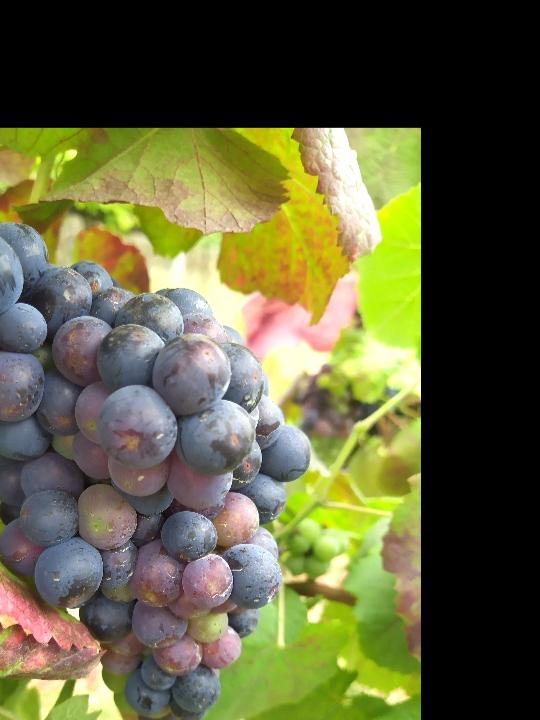grape: (0, 223, 318, 720)
